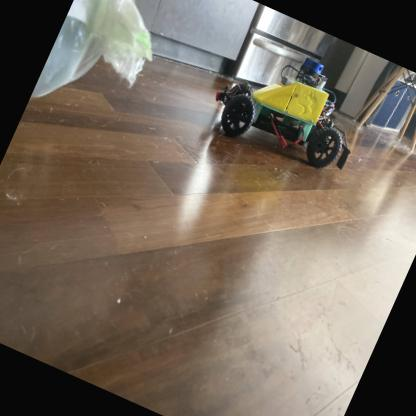mushr_car: (200, 29, 380, 185)
